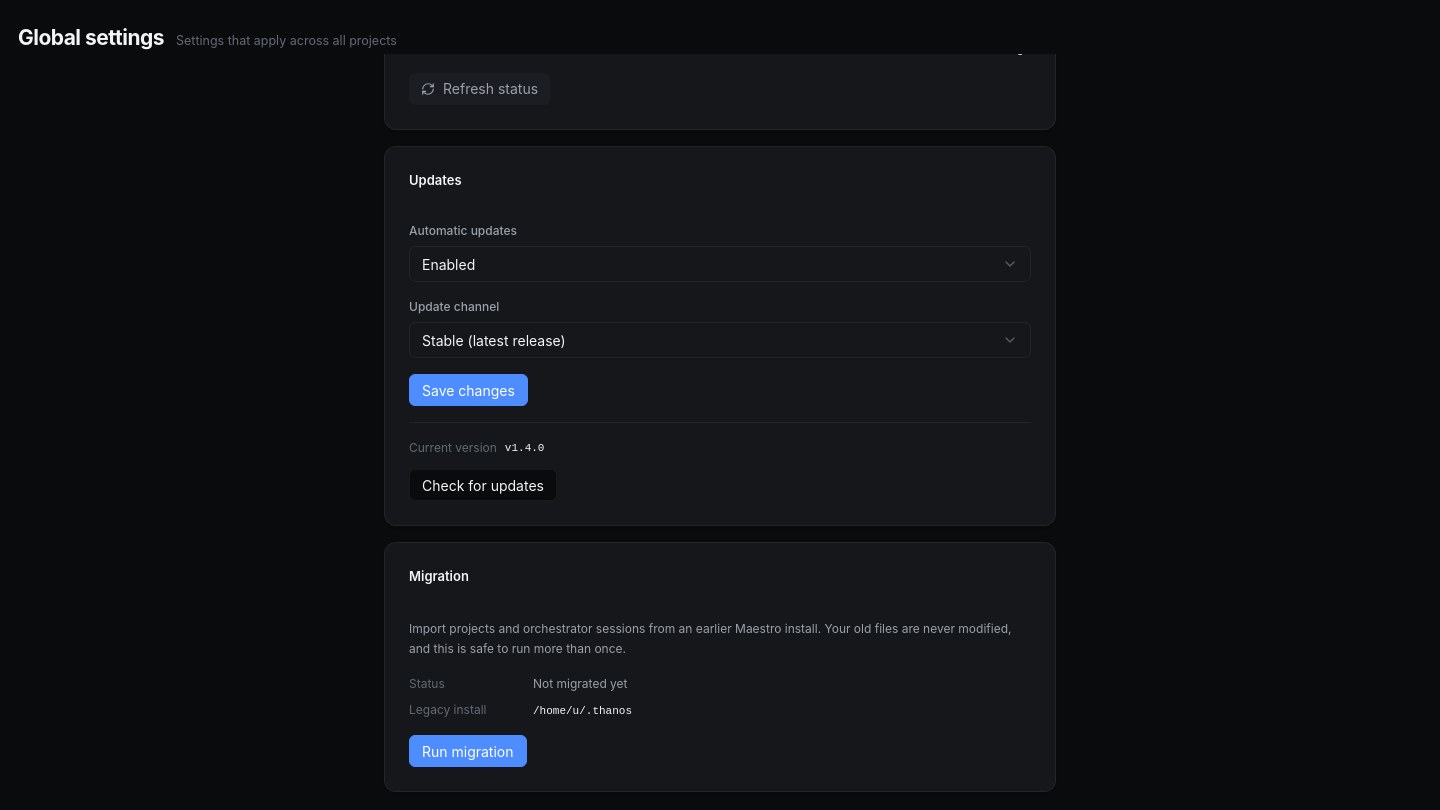
Test: GlobalSettingsForm › a failed import surfaces the error and marks failed
(page scrolled)
Click the button "Run migration" at (468, 751), box [409, 735, 526, 767]
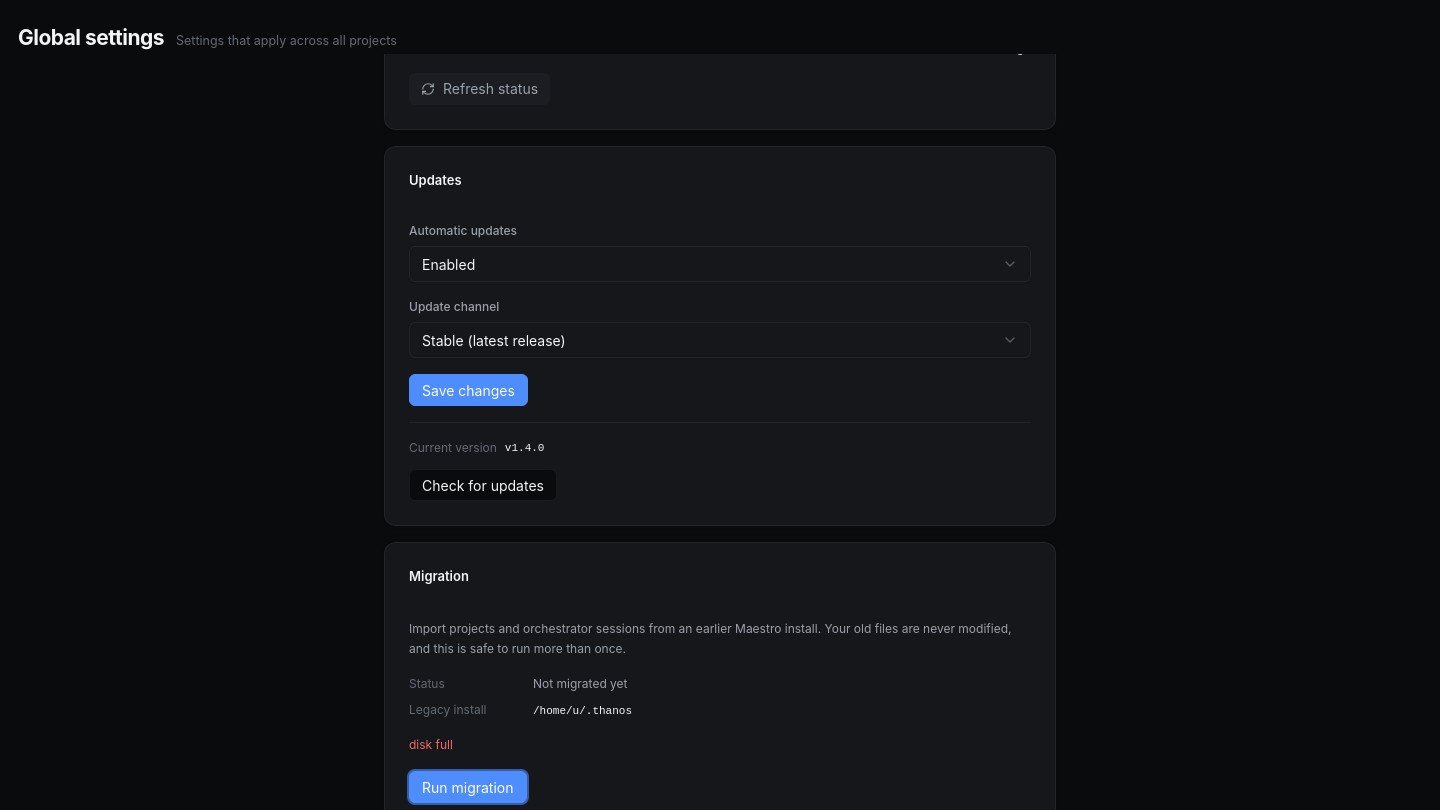
Expected: the text "disk full" is shown, [409, 737, 453, 752]
